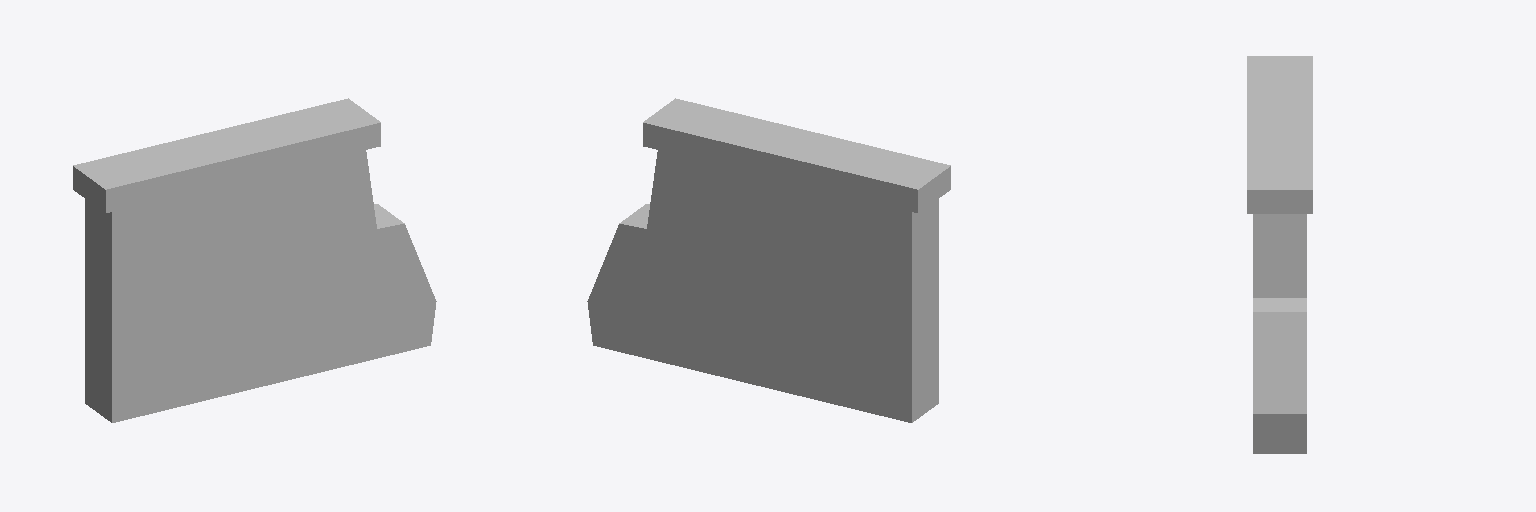
The model's file is muro_verja_low.obj.
3 renders of one model, left to right at view 1: azimuth 30°, elevation 25°; view 2: azimuth 150°, elevation 25°; view 3: azimuth 270°, elevation 25°, orthographic.
Parts seen in each view (by area): view 1: pCube2; view 2: pCube2; view 3: pCube2.
Boxes of the visible parts, box(x1,y1,x2,y2) form: pCube2: box(73, 98, 436, 422); pCube2: box(587, 98, 950, 422); pCube2: box(1247, 56, 1312, 453).
Bounding box in the file's own units: 25.81 × 17.58 × 4.41.